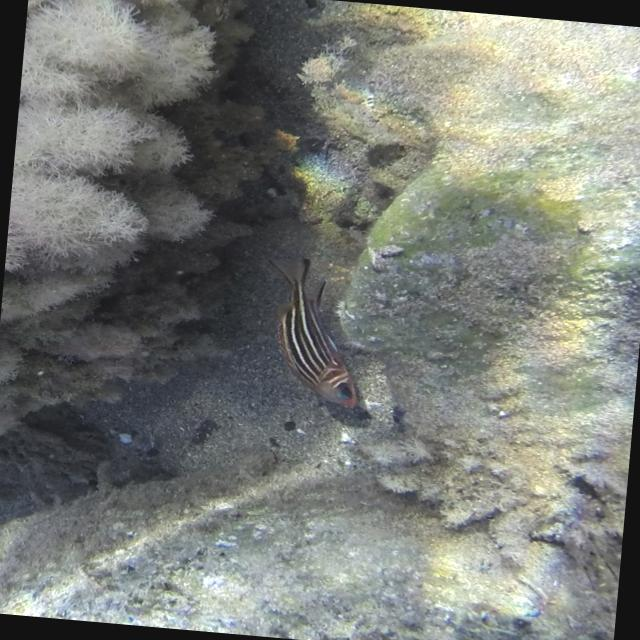Asker Baligi: (250, 252, 372, 410)
